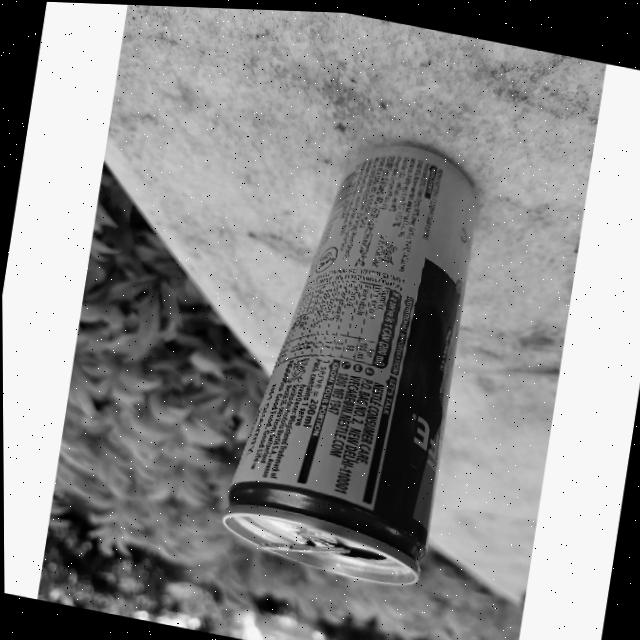Nescafe Classic Iced Latte: (206, 97, 516, 611)
